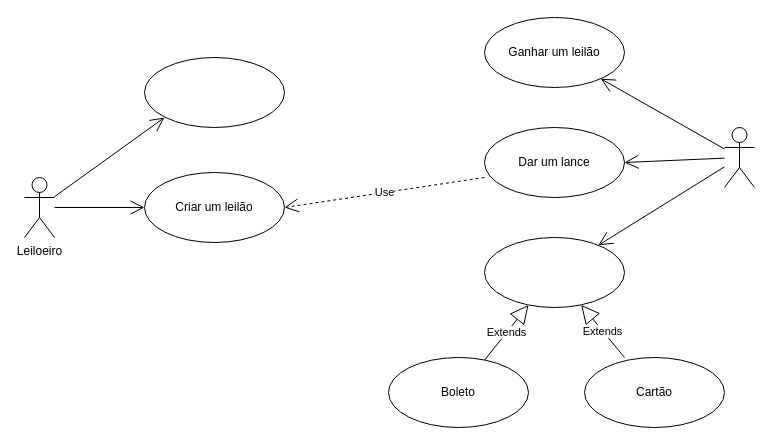
This 777x445 diagram has some shape labels left out. The shapes that lost their labels are listed below. From the top down, each one's centre as x and y in pixels, then its label:
At (x=214, y=92): "Finalizar um leilão".
At (x=739, y=157): "Usuário".
At (x=554, y=272): "Pagar um leilão".
